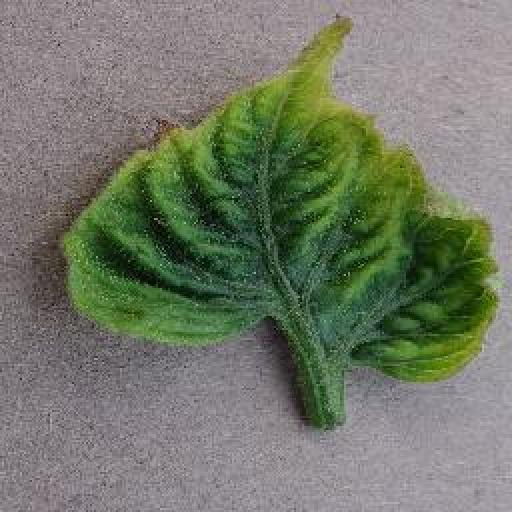disease_tomato: (64, 16, 503, 385)
